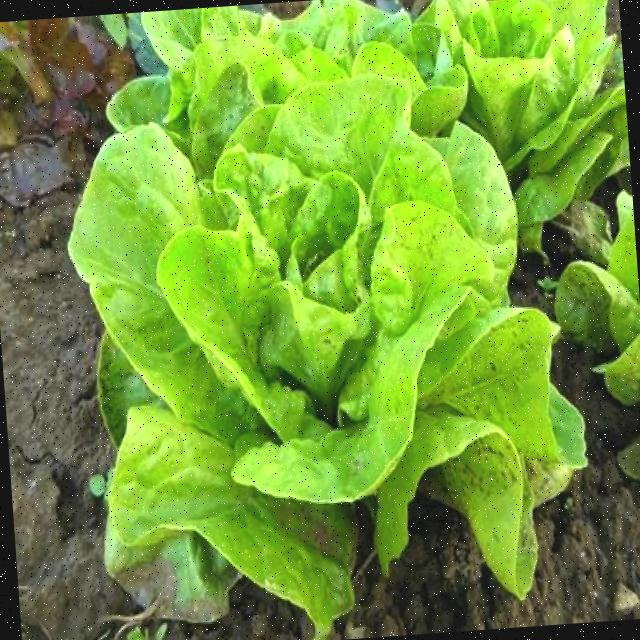healthy: (120, 98, 488, 512)
